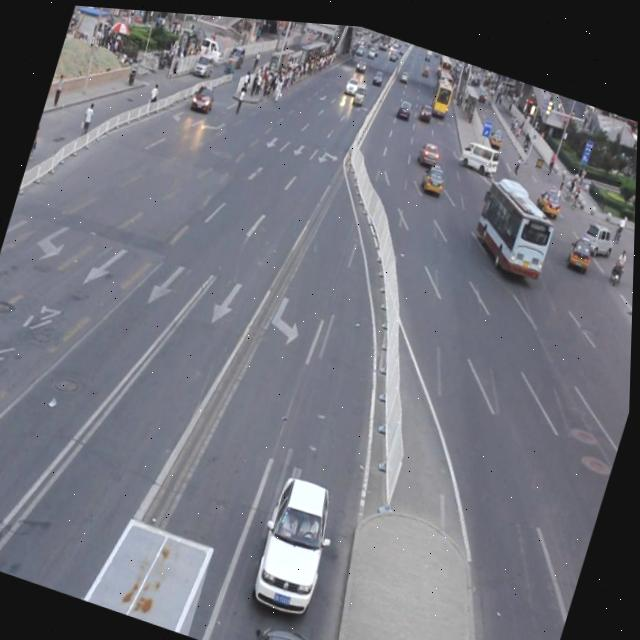bus: (83, 504, 217, 633)
car: (249, 464, 347, 615), (252, 610, 332, 640)
